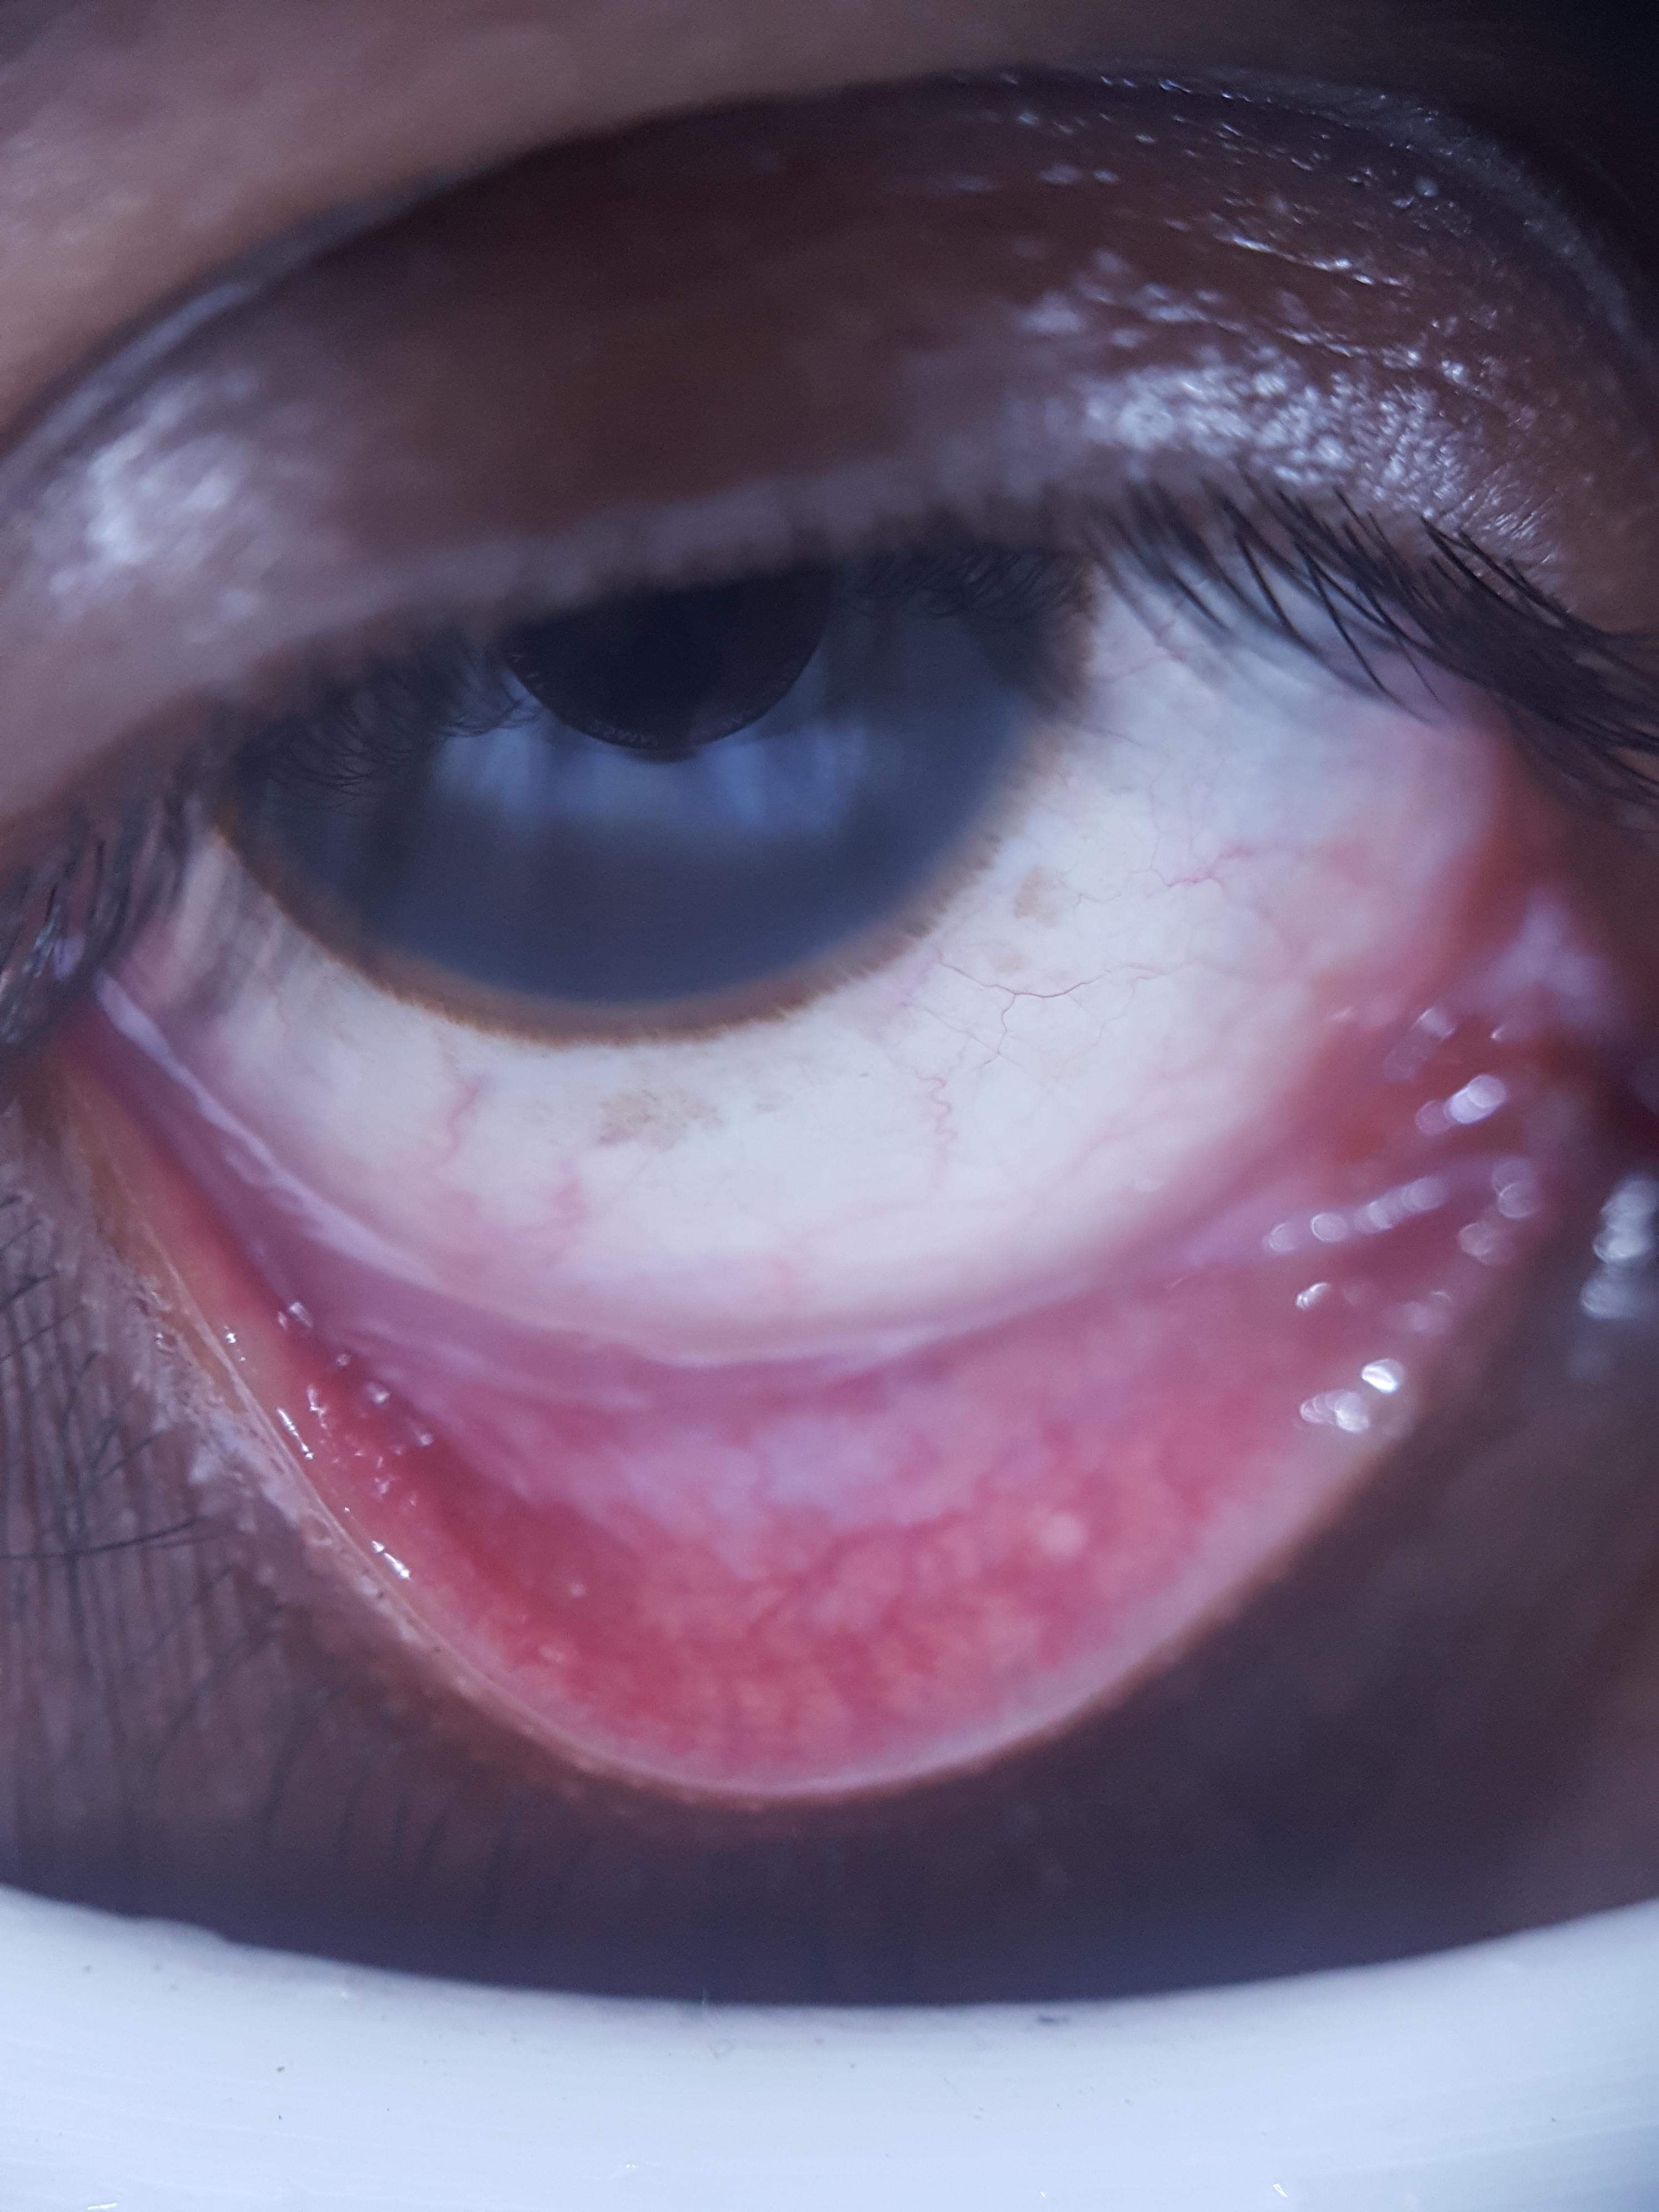forniceal: (148, 1007, 1415, 1541)
forniceal_palpebral: (91, 949, 1535, 1756)
palpebral: (99, 958, 1530, 1749)
